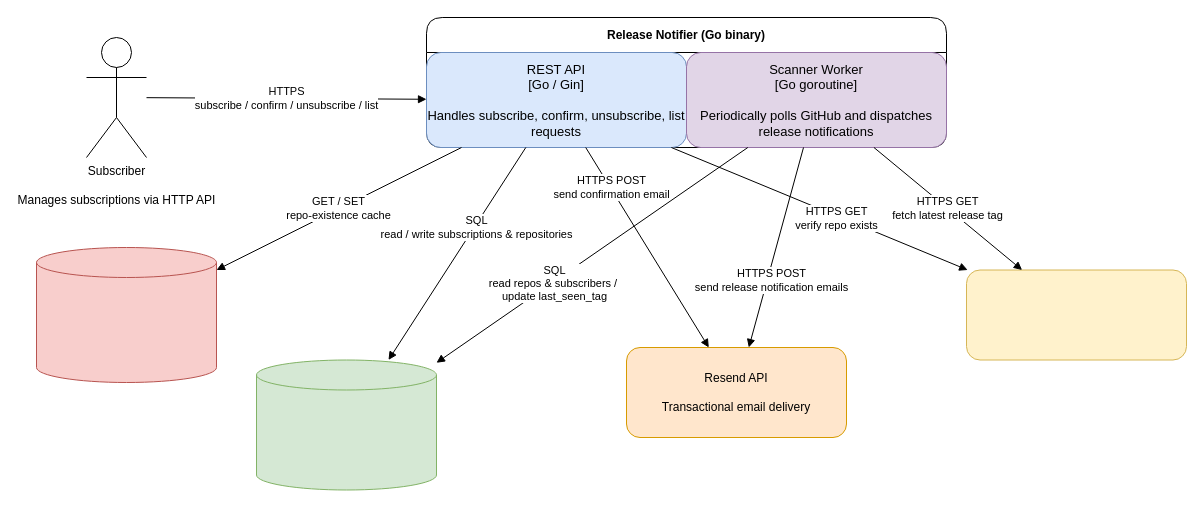
This 1204x508 diagram has some shape labels left out. The shapes that lost their labels are listed below. From the top down, each one's centre as x and y in pixels, then its label:
At point 126,314: "Redis [Cache] Caches GitHub repo-existence checks; TTL 10 min".
At point 1076,314: "GitHub API Repository metadata and latest release tags".
At point 346,424: "PostgreSQL [Database] Stores repositories and subscriptions".
